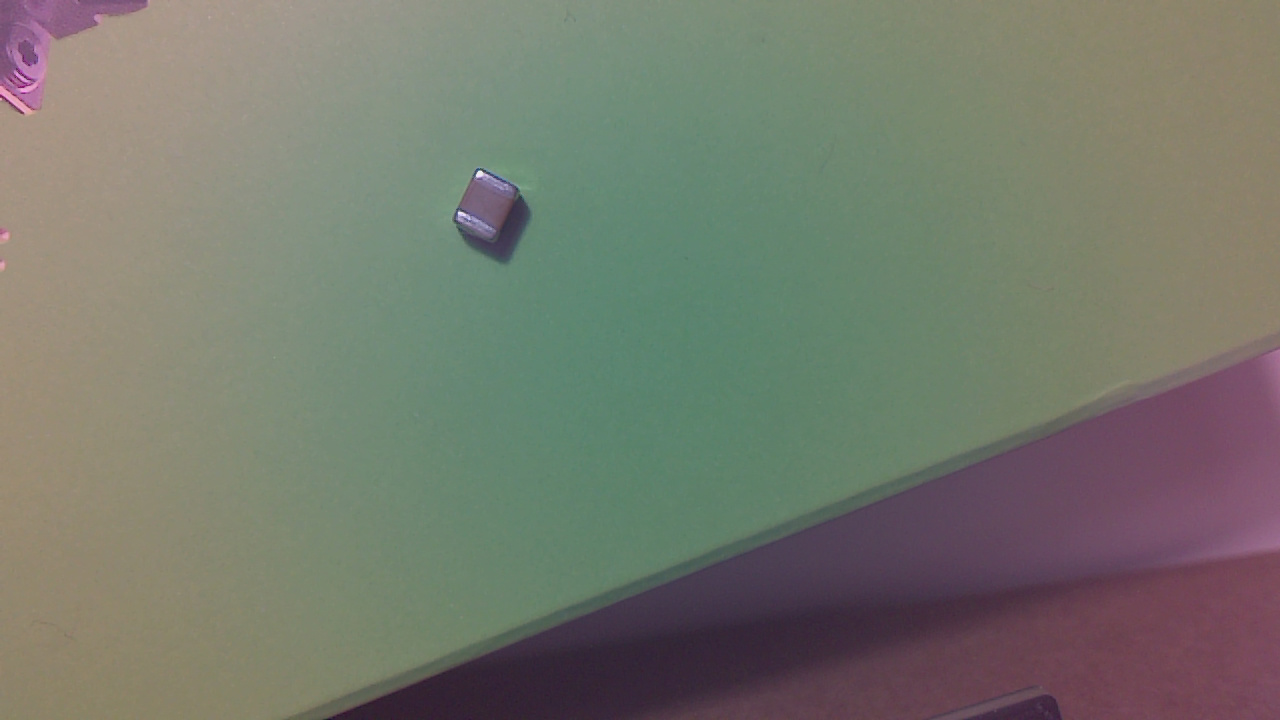Condensator: (458, 172, 528, 250)
